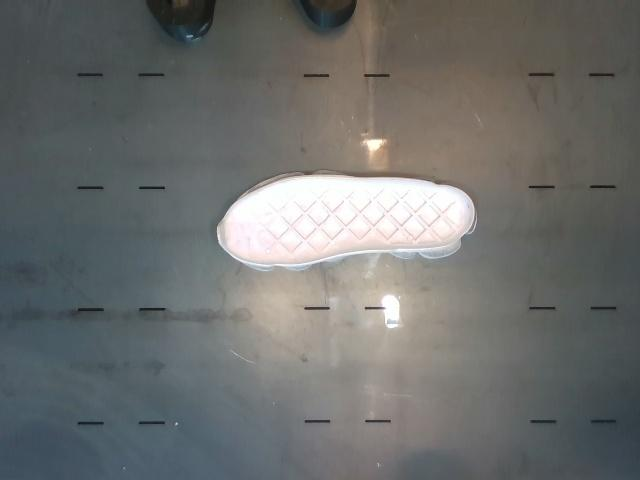shoes: (218, 177, 473, 264)
